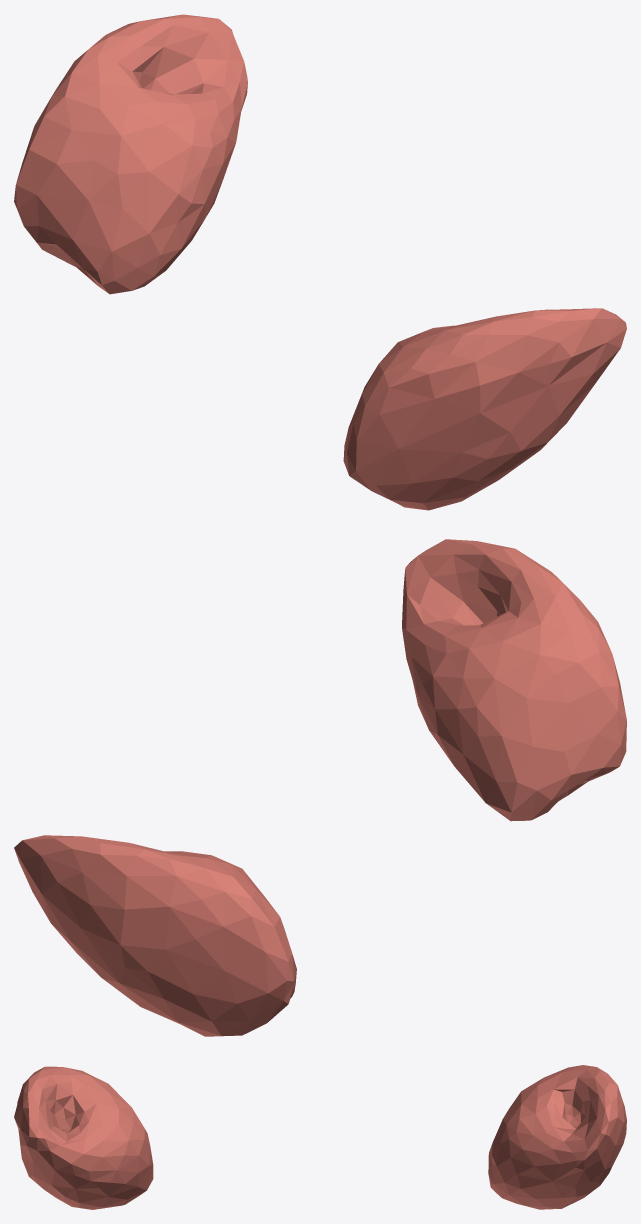
3 renders of one model, top to bottom at view 1: azimuth 30°, elevation 25°; view 2: azimuth 150°, elevation 25°; view 3: azimuth 270°, elevation 25°, orthographic. The views are drawn at different scales.
Visible parts, largest first — view 1: 576073704.obj; view 2: 576073704.obj; view 3: 576073704.obj.
Boxes of the visible parts, bbox=[...] form: 576073704.obj: bbox=[14, 14, 626, 510]; 576073704.obj: bbox=[14, 539, 626, 1036]; 576073704.obj: bbox=[14, 1065, 626, 1209].
Bounding box in the file's own units: 762 × 610 × 2268.
